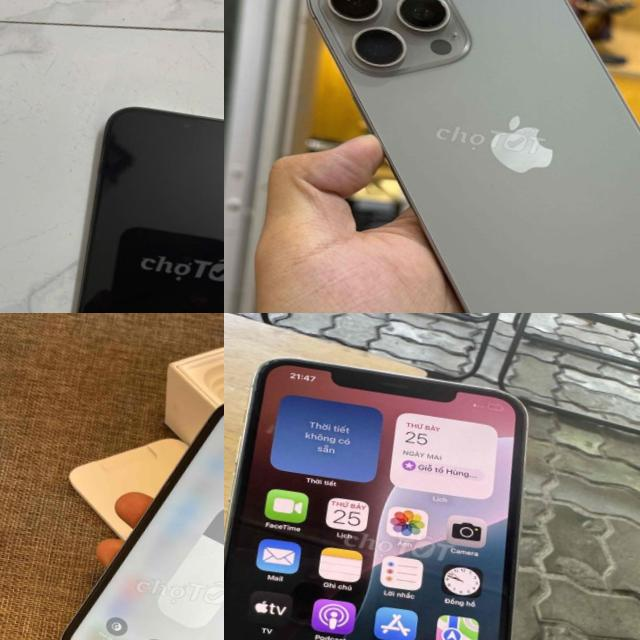gen_11: (224, 347, 568, 640), (63, 403, 224, 640)
gen_12_13: (47, 98, 224, 313)
gen_16: (246, 0, 640, 313)
